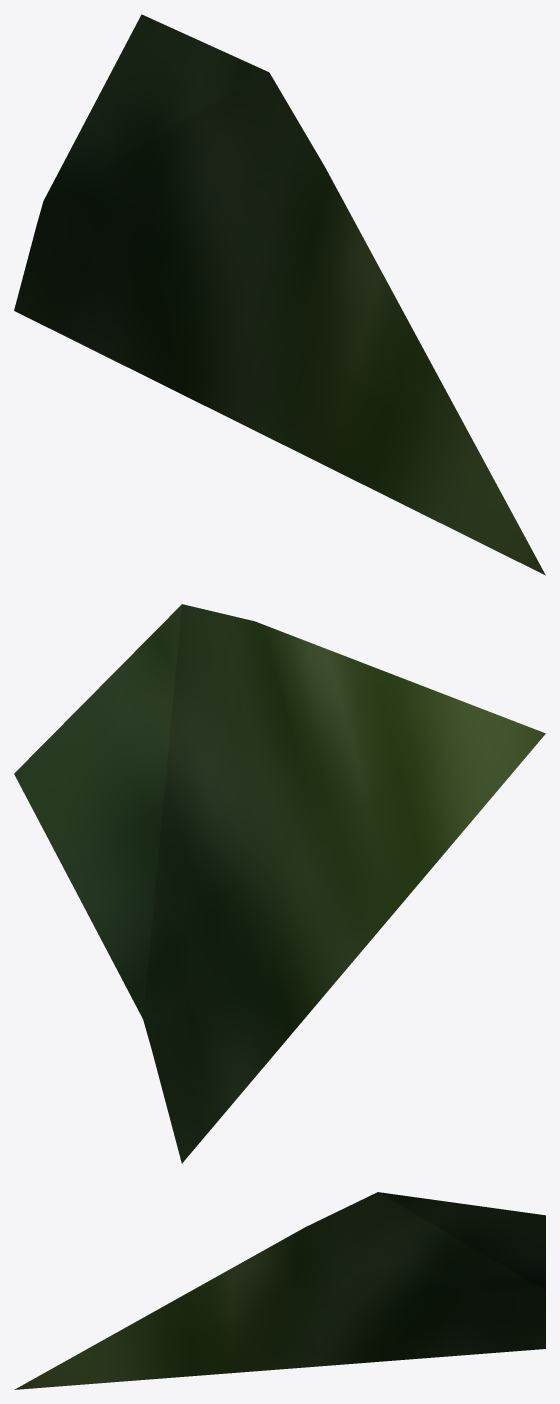
3 renders of one model, top to bottom at view 1: azimuth 30°, elevation 25°; view 2: azimuth 150°, elevation 25°; view 3: azimuth 270°, elevation 25°, orthographic. The views are drawn at different scales.
Size of the model in its own units: 0.0148 by 0.0333 by 0.0811.
Materials: 1 (1 with a texture image).
